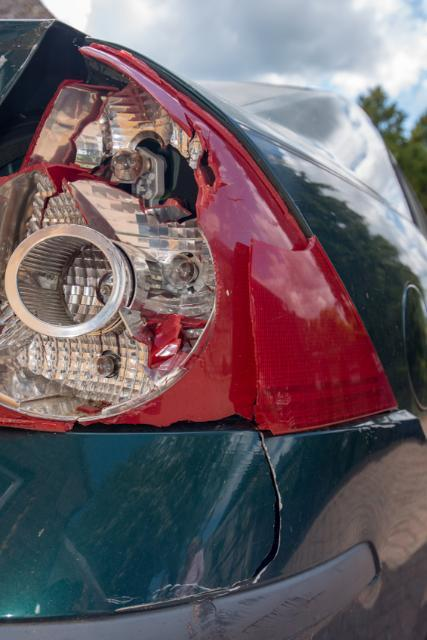Bumper: (1, 425, 427, 637)
Light: (3, 20, 401, 428)
